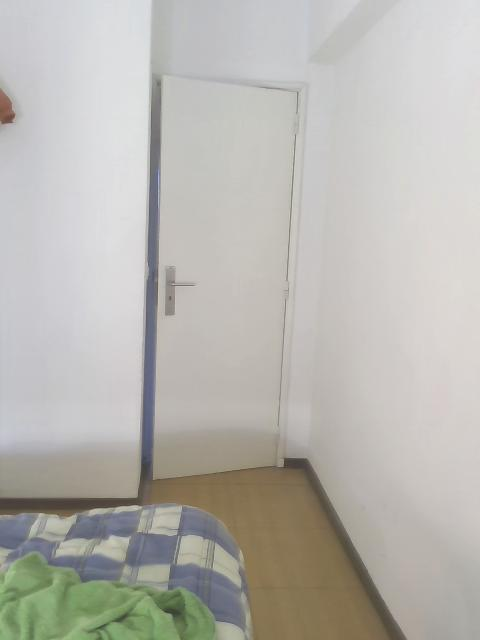closed_door: (143, 72, 305, 480)
